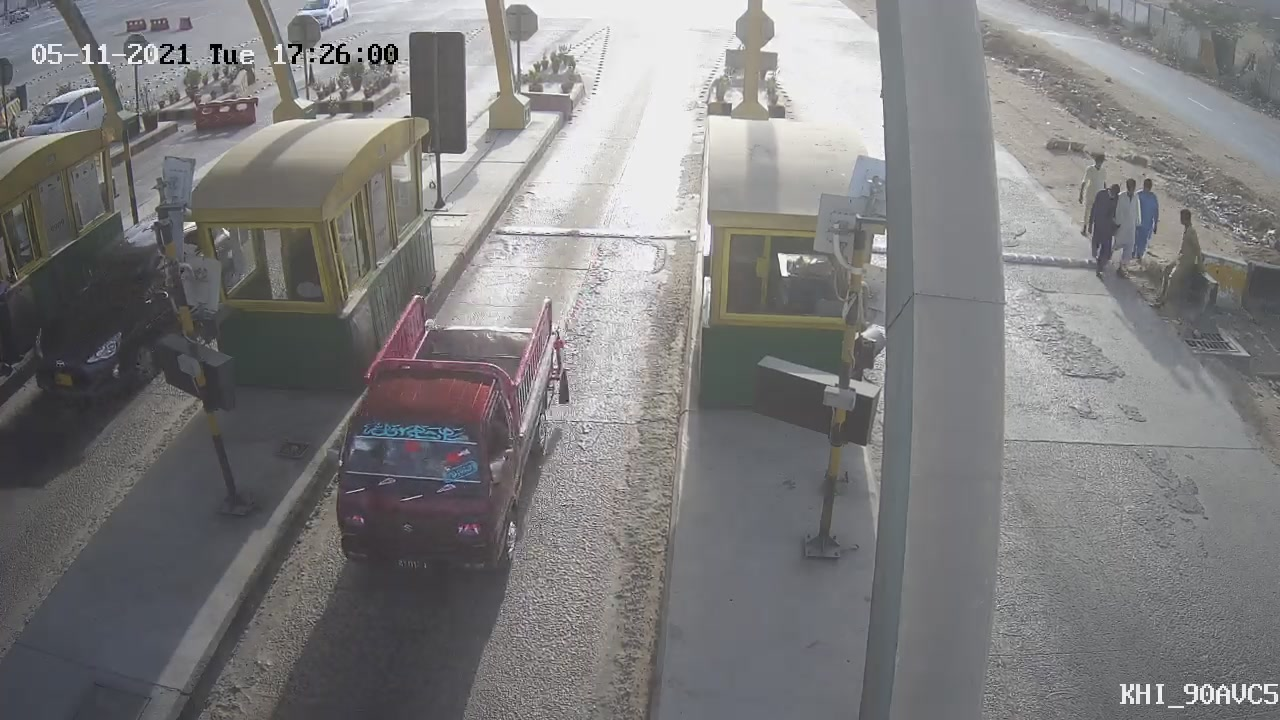F1: (327, 295, 569, 606)
